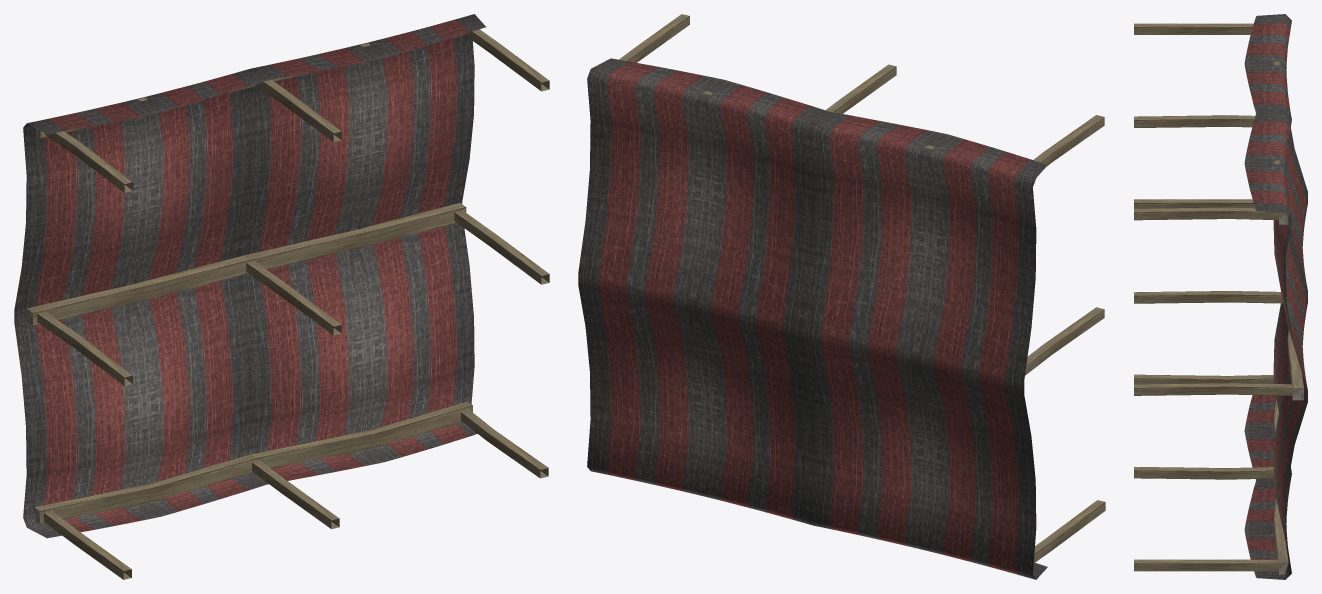
The model's file is Merchant_Tent_Type_02_D.fbx.
The picture shows the model from 3 angles, left to right: view 1: azimuth 30°, elevation 25°; view 2: azimuth 150°, elevation 25°; view 3: azimuth 270°, elevation 25°; orthographic projection. The views are drawn at different scales.
Visible parts, largest first — view 1: Merchant_Tent_Type_02_D; view 2: Merchant_Tent_Type_02_D; view 3: Merchant_Tent_Type_02_D.
Part boxes in pixels (x1,y1,x2,y2): Merchant_Tent_Type_02_D: (14,14,549,579); Merchant_Tent_Type_02_D: (578,14,1105,579); Merchant_Tent_Type_02_D: (1134,14,1307,579).
Size of the model in its own units: 10.52 by 9.08 by 3.89.
